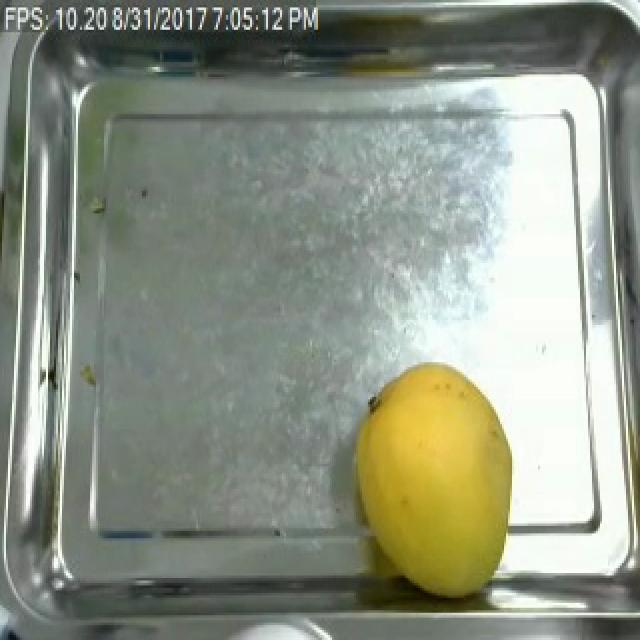fruit: (340, 355, 524, 610)
